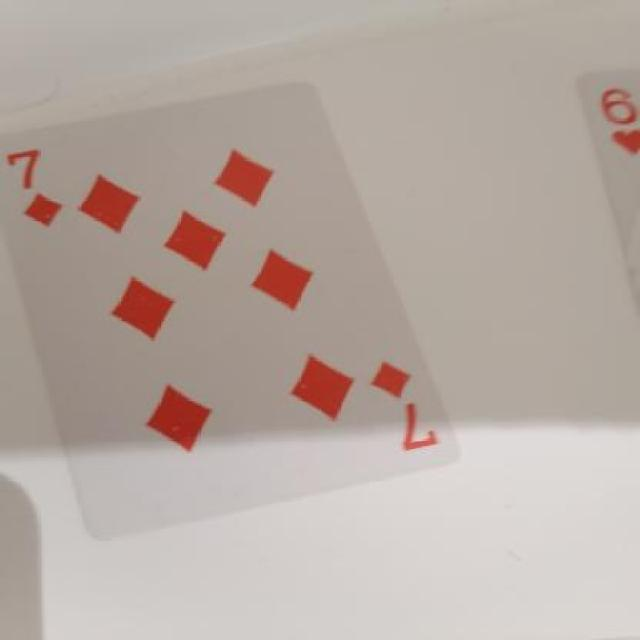7D: (350, 348, 444, 459), (6, 128, 69, 238)
